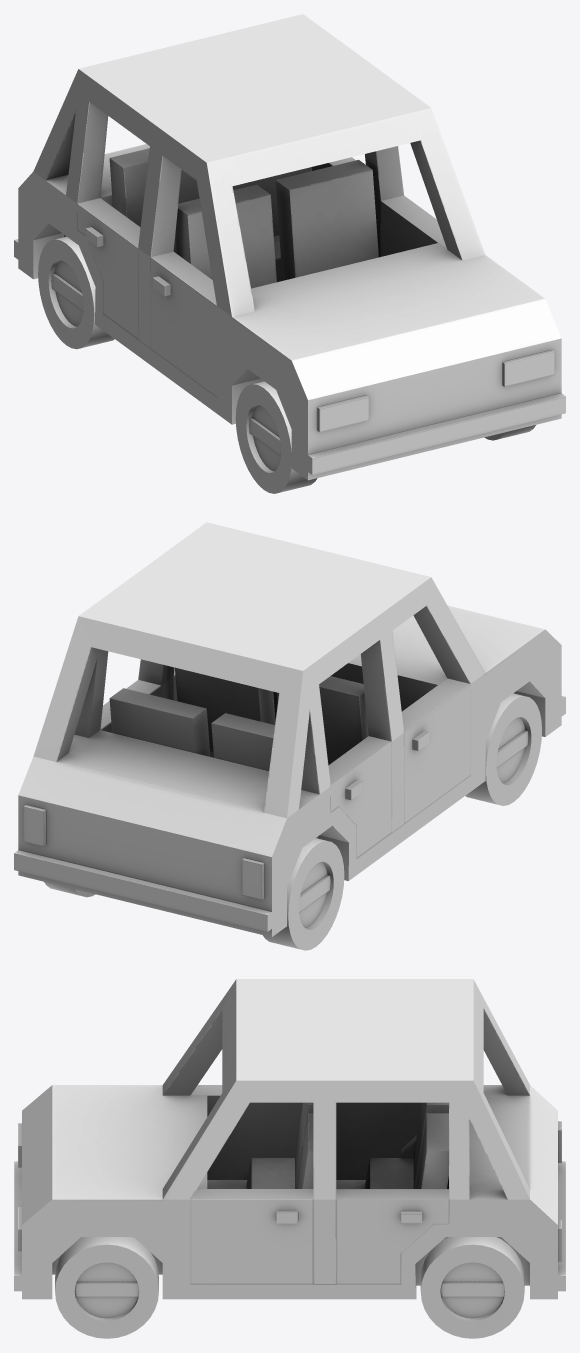
File: vehicle.gltf
3 views of the same model, one above another, from view 1: azimuth 30°, elevation 25°; view 2: azimuth 150°, elevation 25°; view 3: azimuth 270°, elevation 25° (orthographic). The views are drawn at different scales.
Visible parts, largest first — view 1: body, door_2, door_4, wheel_rr, wheel_fr, door_1; view 2: body, door_2, door_4, wheel_rr, wheel_fr, door_3; view 3: body, door_1, wheel_rl, wheel_fl, door_3, door_4, door_2.
Boxes of the visible parts, <box> form: body: <box>14,14,565,480</box>; door_2: <box>150,251,216,396</box>; door_4: <box>77,198,140,339</box>; wheel_rr: <box>38,236,114,349</box>; wheel_fr: <box>235,381,317,493</box>; door_1: <box>381,195,447,256</box>; body: <box>14,522,565,937</box>; door_2: <box>402,678,470,823</box>; door_4: <box>328,736,391,857</box>; wheel_rr: <box>263,838,344,950</box>; wheel_fr: <box>465,693,541,805</box>; door_3: <box>100,680,161,732</box>; body: <box>14,979,565,1299</box>; door_1: <box>190,1189,313,1283</box>; wheel_rl: <box>420,1237,524,1338</box>; wheel_fl: <box>55,1237,158,1338</box>; door_3: <box>336,1189,448,1283</box>; door_4: <box>336,1102,421,1179</box>; door_2: <box>190,1085,302,1179</box>.
Size of what is drawn, in the model's own units: 1.28 by 1.26 by 2.49.
2 materials, 2 textured.
